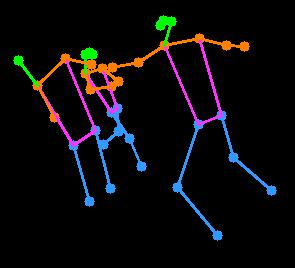normal: (14, 37, 121, 216)
